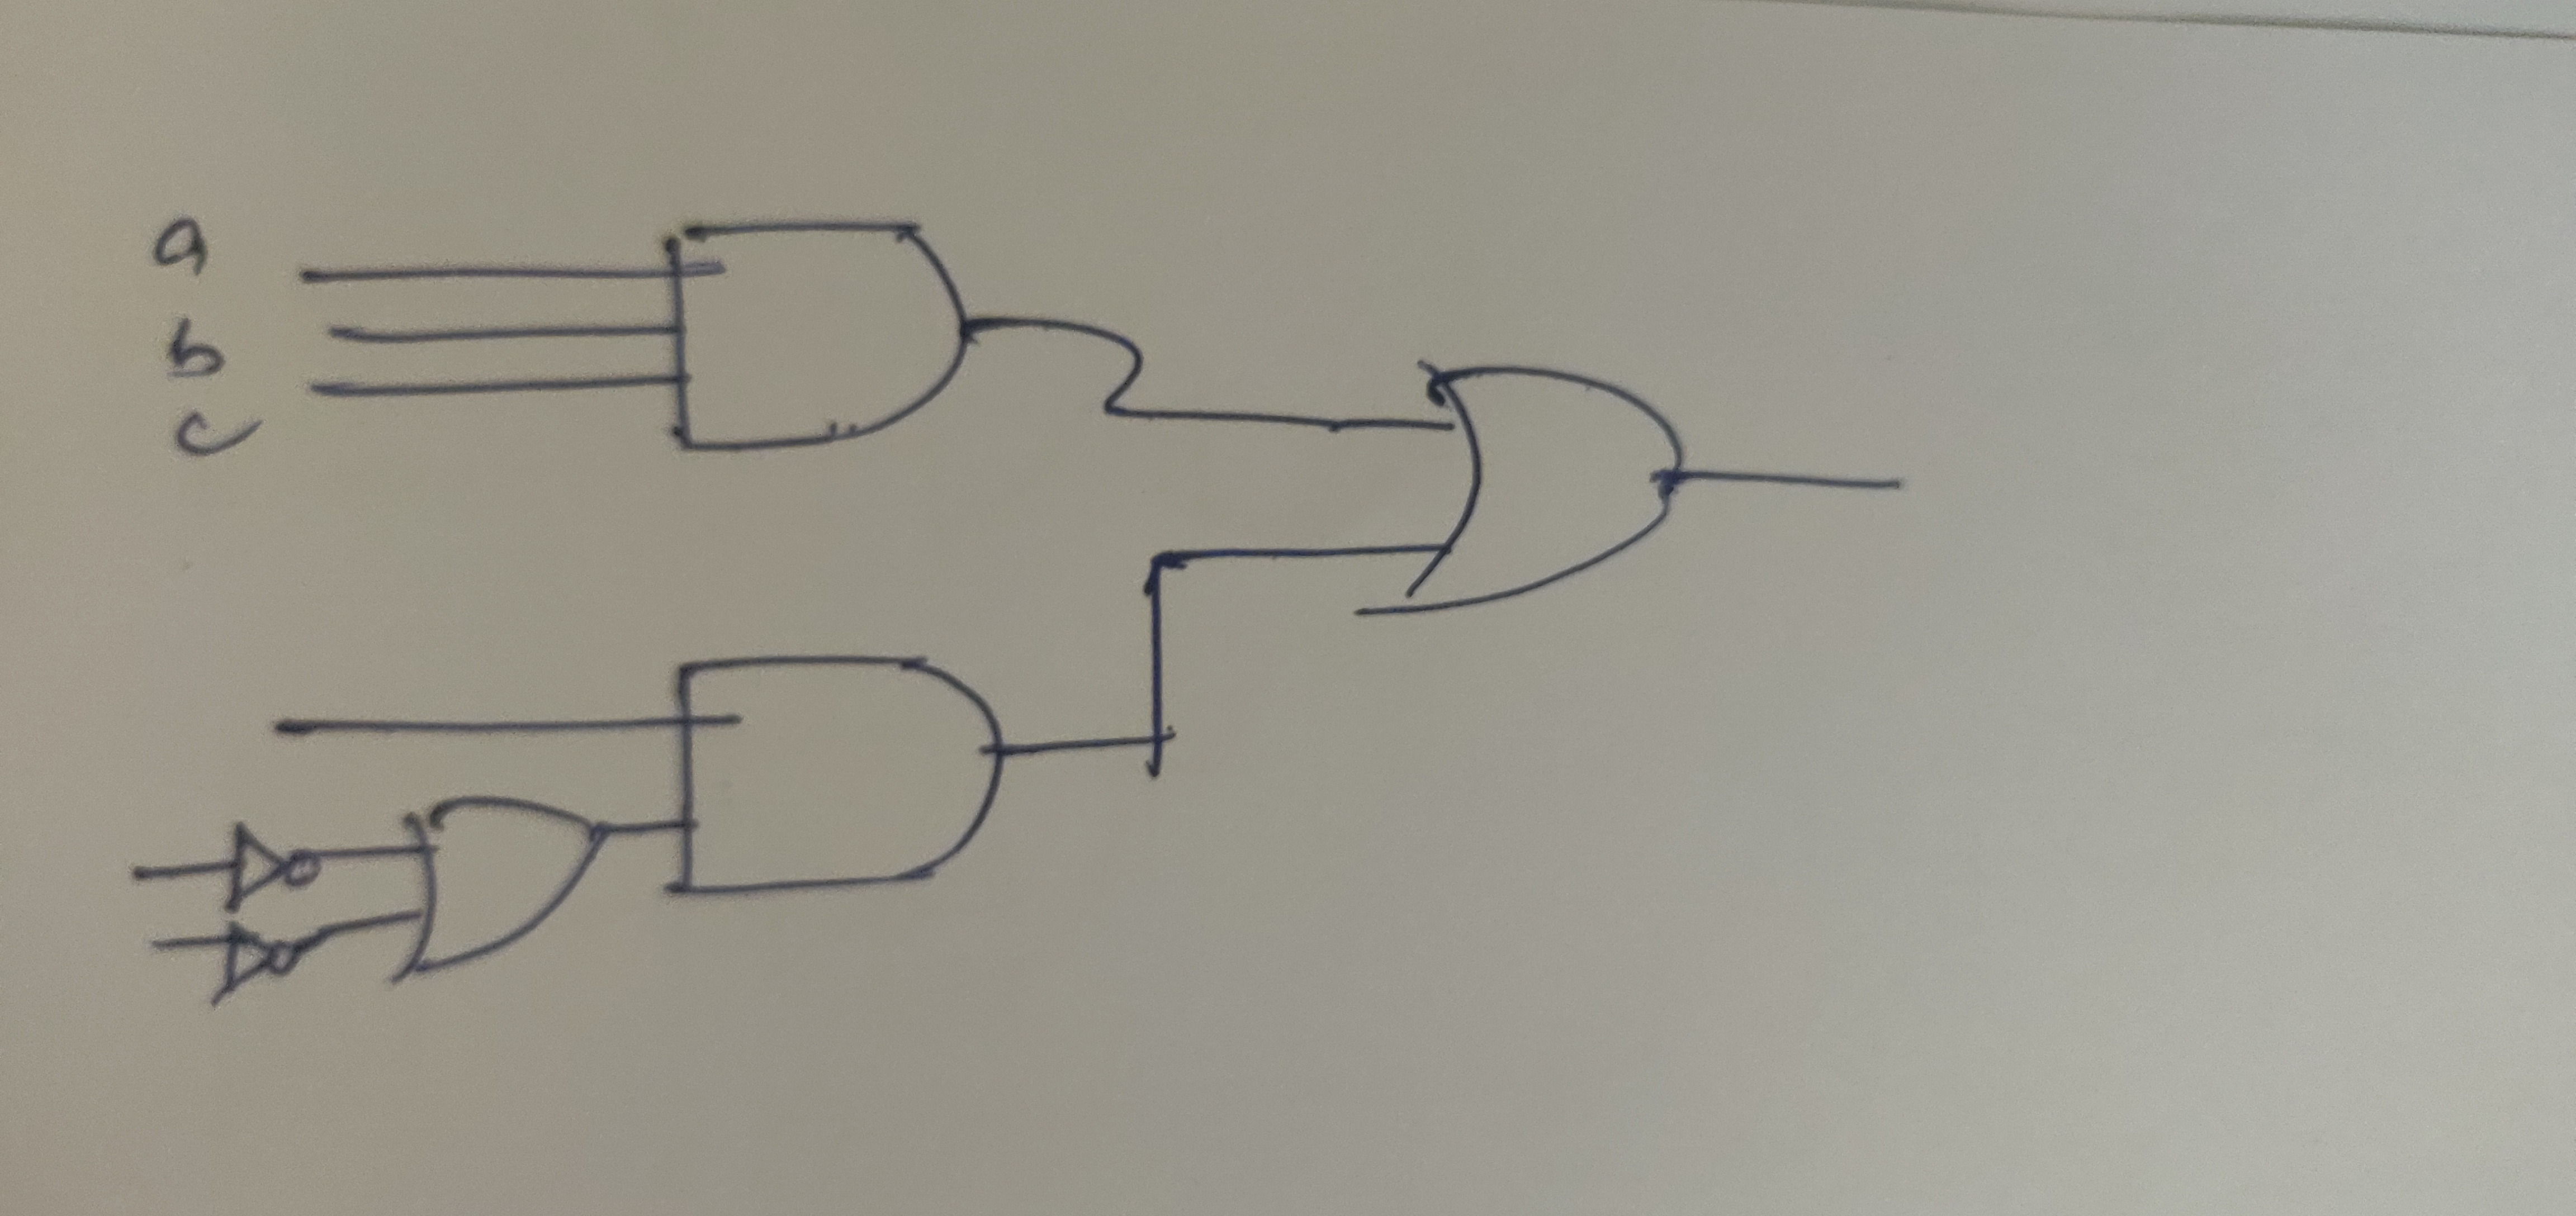and: (664, 631, 1019, 924), (642, 200, 999, 480)
not: (222, 808, 324, 917), (215, 907, 307, 1022)
or: (1337, 339, 1725, 661), (383, 782, 637, 1002)
